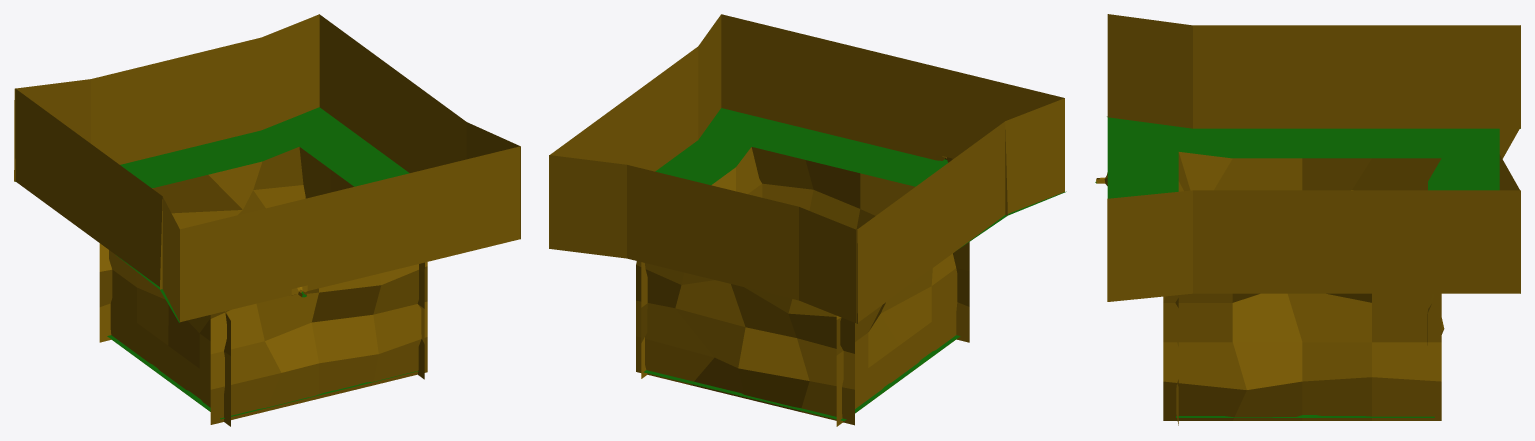
Rendered from Map.fbx.
3 views of the same model, side by side, from view 1: azimuth 30°, elevation 25°; view 2: azimuth 150°, elevation 25°; view 3: azimuth 270°, elevation 25° (orthographic). The views are drawn at different scales.
Visible parts, largest first — view 1: Plane.002; view 2: Plane.002; view 3: Plane.002.
Boxes of the visible parts, <box> form: Plane.002: <box>14,14,520,426</box>; Plane.002: <box>549,14,1066,426</box>; Plane.002: <box>1095,14,1520,425</box>.
Bounding box in the file's own units: 38.6 × 25.28 × 37.44.
